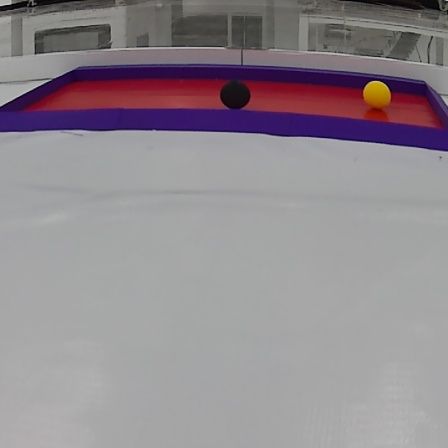black: (220, 78, 250, 108)
red_aim: (0, 65, 445, 153)
yellow: (364, 81, 391, 106)
